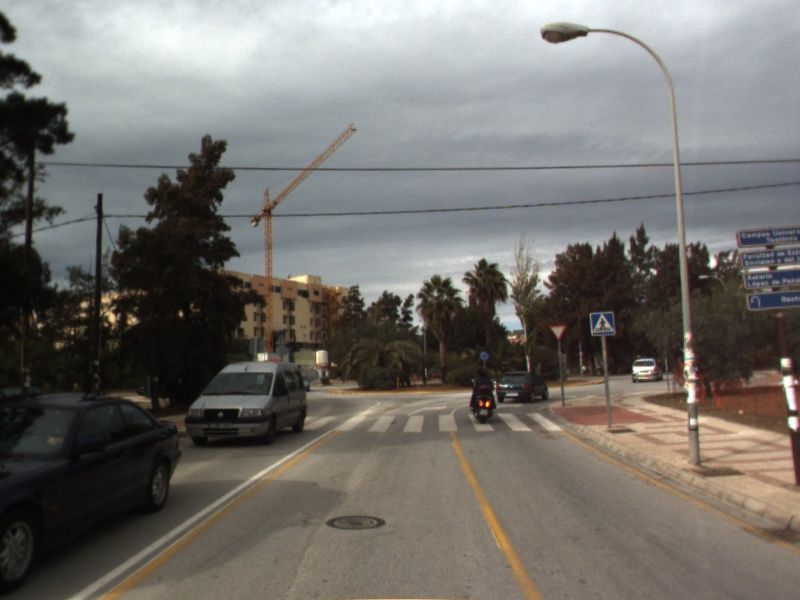RIGHT: (406, 403, 449, 417), (490, 401, 526, 413)
